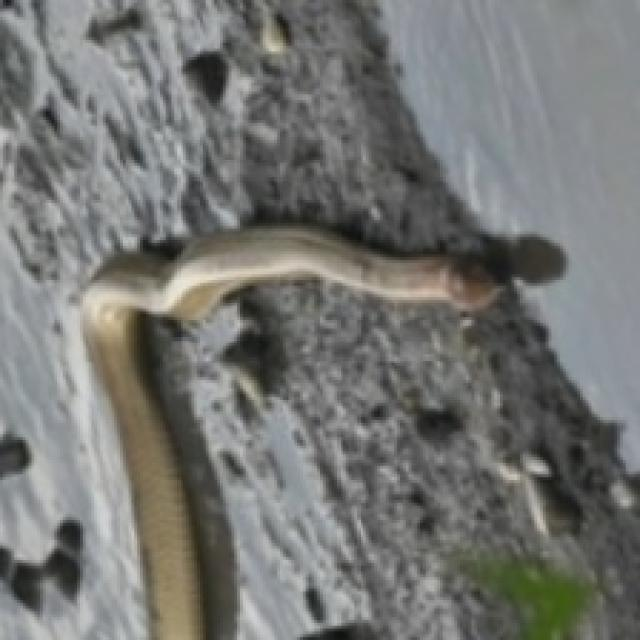king cobra: (83, 226, 571, 637)
